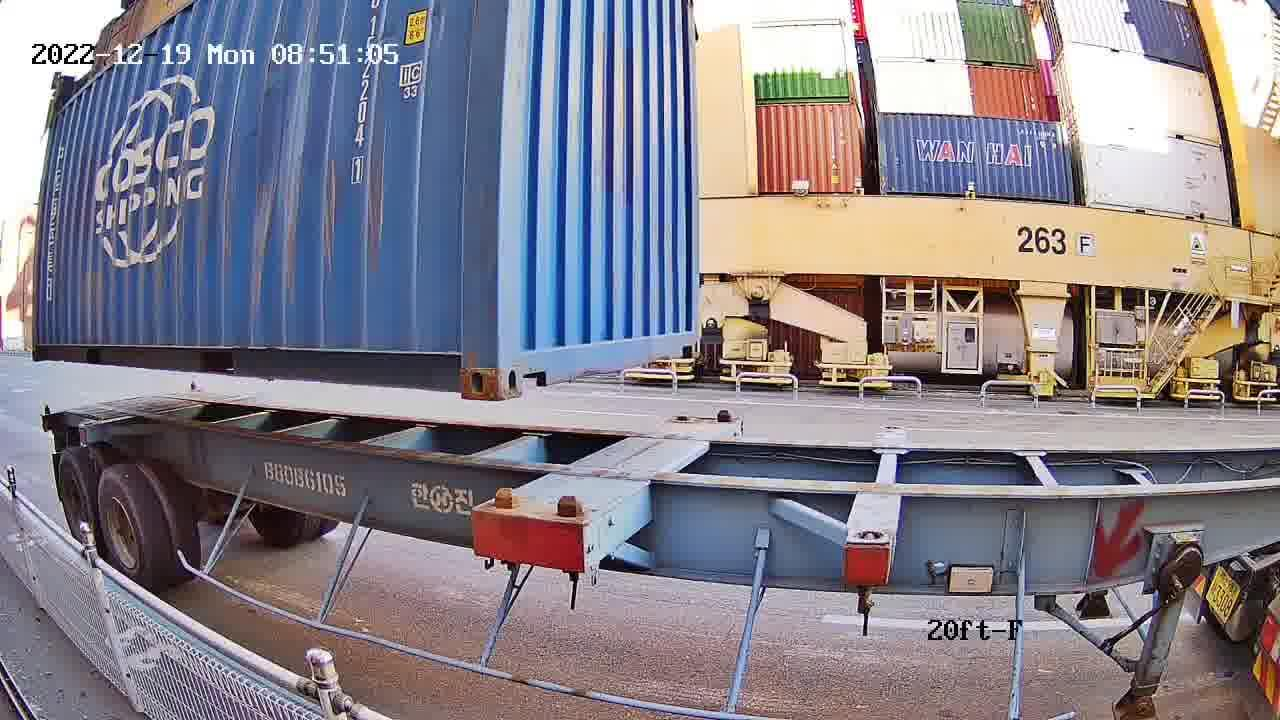Chassis: (550, 419, 740, 566), (475, 417, 696, 514)
Cone: (548, 497, 584, 571), (483, 488, 518, 562)
Hole_L: (498, 332, 552, 400)
Hole_R: (431, 330, 498, 402), (674, 318, 701, 358)
Tire: (96, 472, 153, 585), (57, 453, 95, 554)
